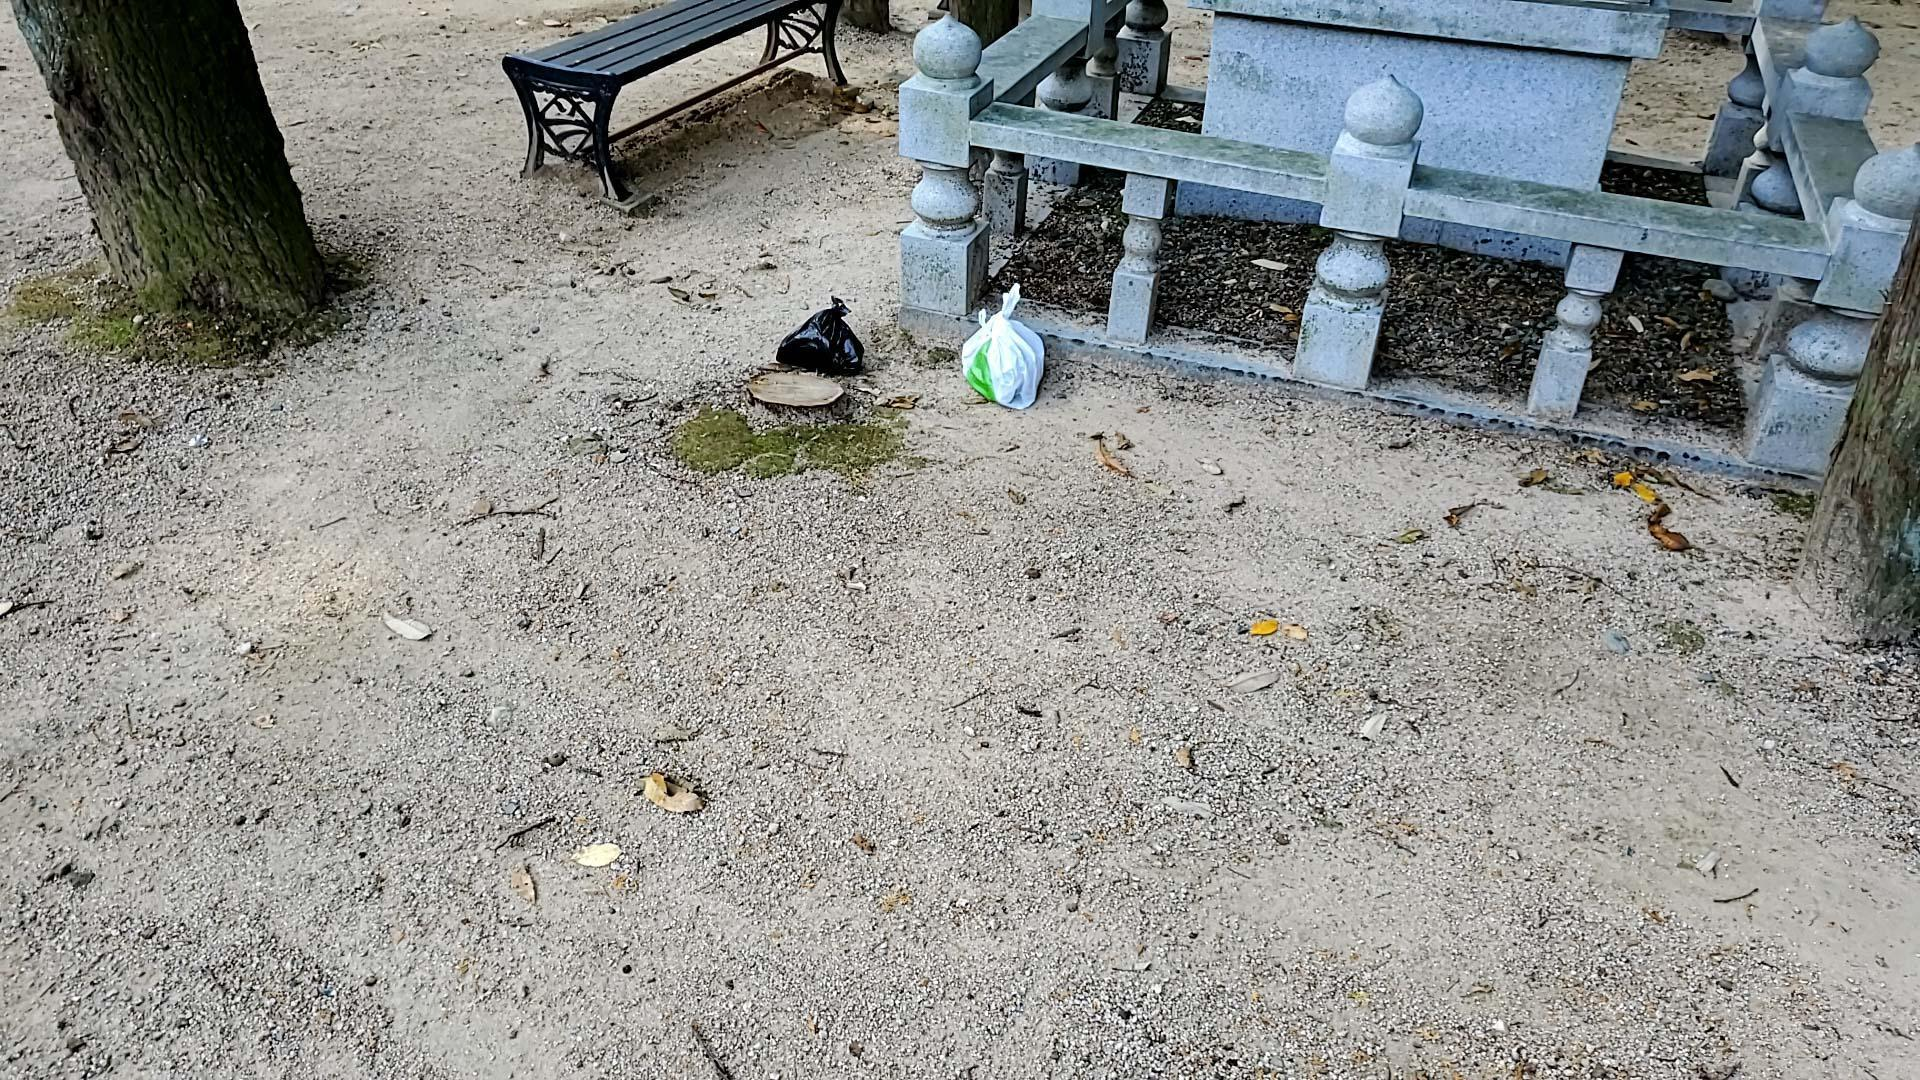black_bag: (774, 293, 866, 375)
white_bag: (951, 278, 1050, 411)
